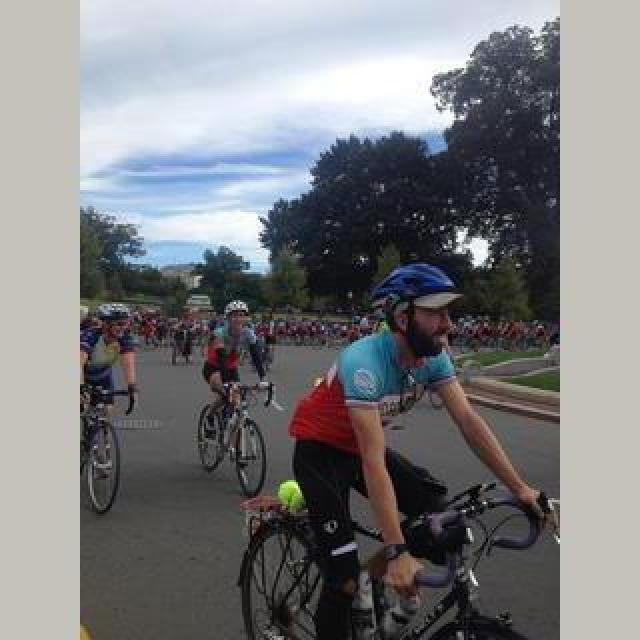MC-Bike: (286, 264, 548, 638), (200, 300, 272, 458), (84, 306, 142, 416)
Person: (234, 472, 552, 638), (198, 380, 272, 496), (82, 388, 128, 514)
